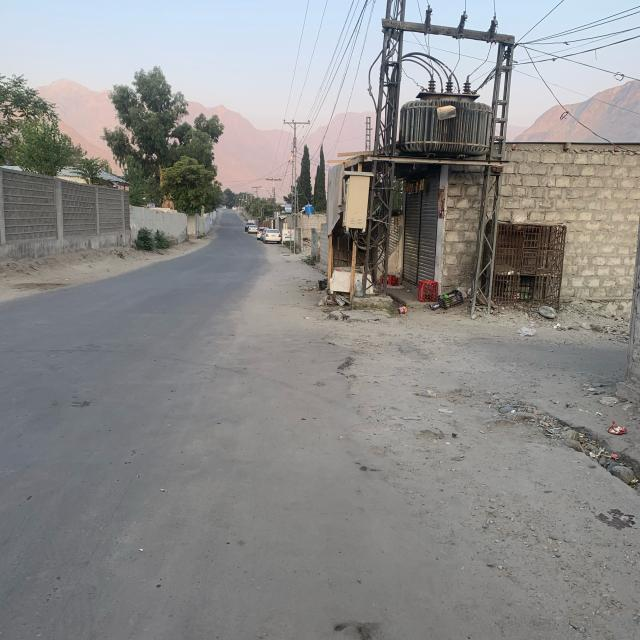Right-Turn: (264, 323, 568, 590)
straight: (212, 218, 259, 368)
